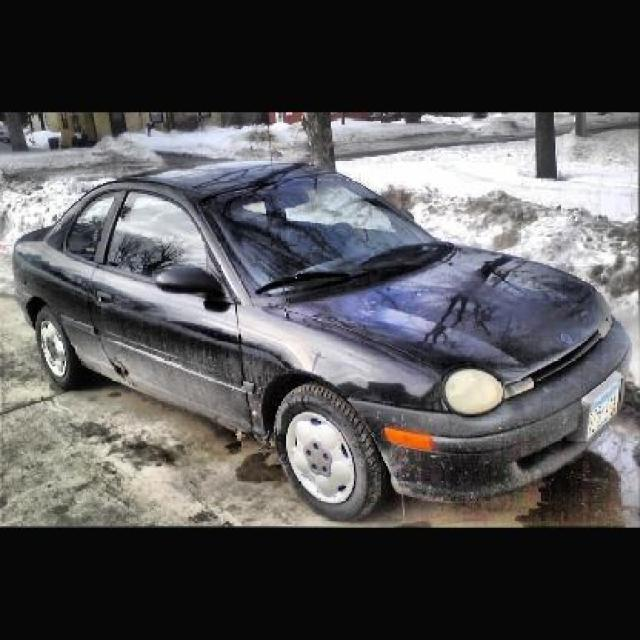black: (12, 156, 640, 536)
